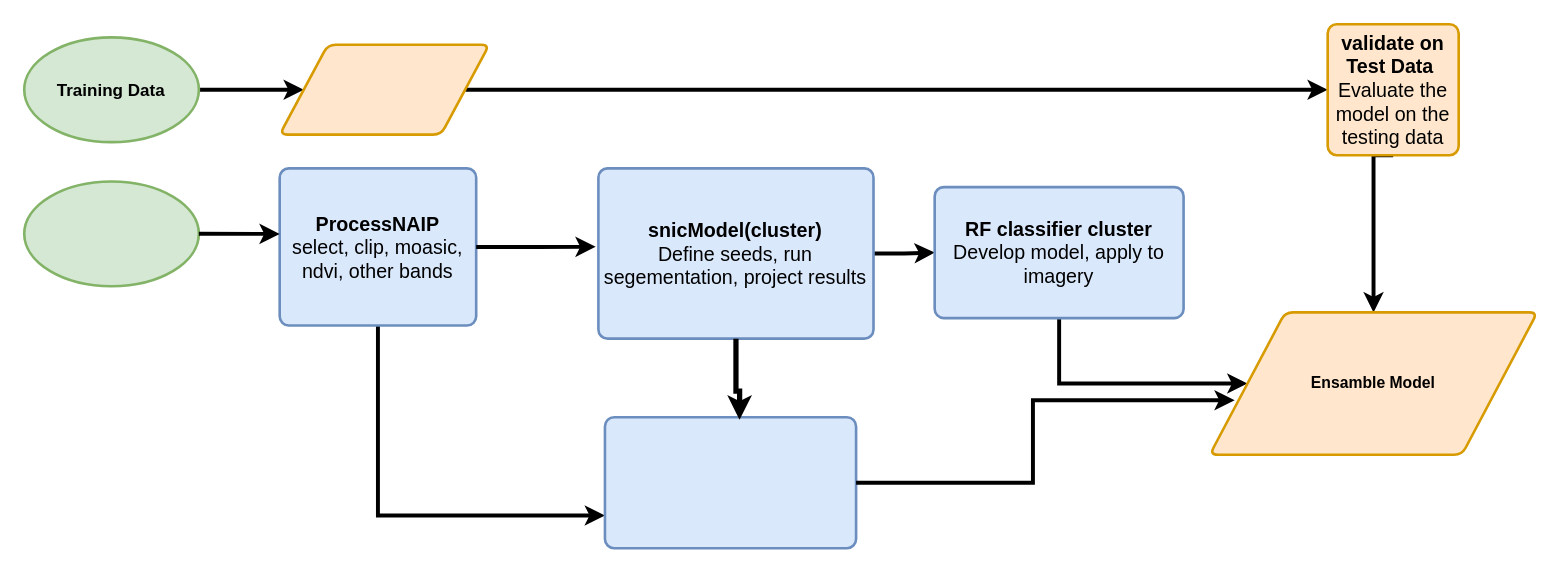
This 1560x571 diagram has some shape labels left out. The shapes that lost their labels are listed below. From the top down, each one's centre as x and y in pixels, then its label:
At (x=384, y=89): "Test/Train Split".
At (x=111, y=233): "NAIP Imagery".
At (x=730, y=482): "RF classifier pixel Develop model, apply to imagery".
